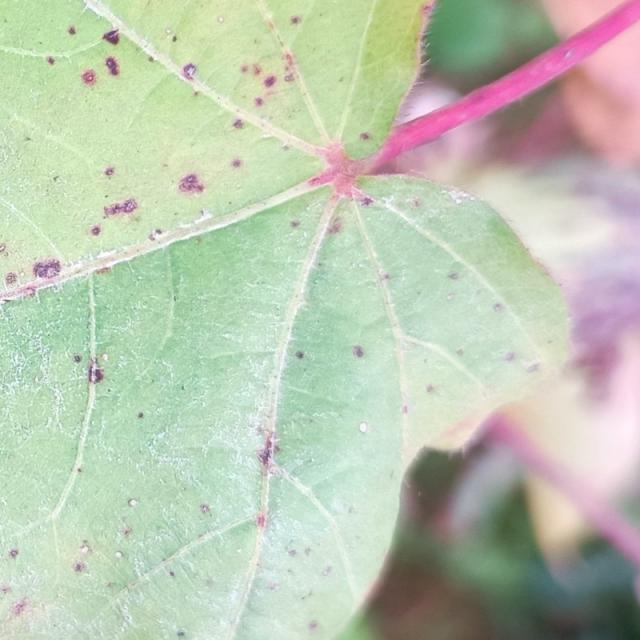Bacterial_Blight: (62, 519, 154, 591), (173, 169, 209, 198), (102, 197, 139, 218), (72, 542, 95, 575), (32, 259, 62, 280), (85, 356, 107, 382), (257, 445, 273, 466), (306, 171, 327, 187), (104, 56, 120, 76), (181, 62, 198, 80), (10, 599, 28, 616), (282, 52, 297, 72), (20, 283, 41, 297), (102, 28, 120, 44), (80, 70, 97, 86), (327, 217, 342, 235), (149, 228, 163, 241), (352, 345, 365, 358), (5, 272, 18, 285), (359, 196, 374, 207), (264, 75, 277, 87), (526, 362, 540, 373), (250, 64, 262, 76), (96, 266, 112, 275), (232, 119, 245, 130), (256, 514, 266, 528), (503, 351, 515, 362), (422, 3, 433, 15), (448, 271, 462, 280), (121, 525, 132, 536), (104, 166, 115, 177), (90, 225, 101, 236), (290, 15, 302, 25), (200, 504, 211, 514), (426, 384, 437, 394), (232, 158, 243, 168), (8, 549, 19, 559), (266, 20, 276, 31), (289, 220, 301, 229), (267, 582, 279, 591), (254, 97, 264, 107), (240, 64, 250, 74), (493, 302, 503, 312), (46, 56, 56, 66), (359, 132, 370, 141), (294, 350, 305, 359), (380, 272, 391, 281), (359, 422, 368, 433), (1, 586, 12, 595), (308, 619, 317, 630), (284, 73, 294, 82), (67, 26, 77, 35), (322, 567, 332, 576), (412, 198, 422, 207), (80, 545, 90, 554), (288, 548, 297, 557), (73, 354, 82, 363), (204, 578, 213, 587), (129, 498, 138, 507), (177, 628, 186, 637), (0, 243, 7, 254), (304, 547, 312, 556), (281, 143, 290, 151), (456, 348, 464, 356), (147, 55, 155, 63), (447, 293, 455, 301), (274, 444, 281, 453), (137, 411, 144, 419), (171, 35, 178, 43), (217, 16, 225, 23), (402, 405, 408, 414), (176, 635, 186, 640), (348, 506, 354, 514), (76, 467, 82, 474), (25, 136, 32, 142)
Cotton: (0, 0, 567, 639)
